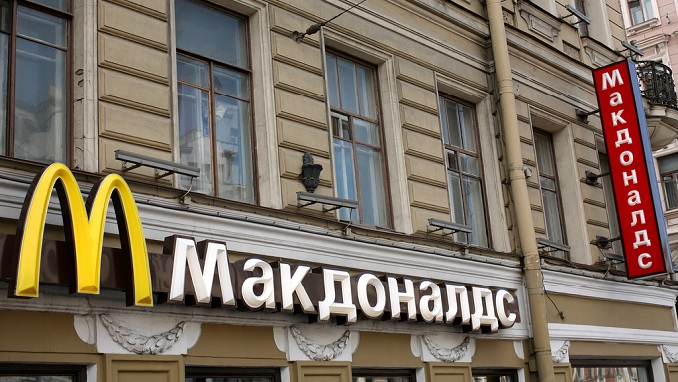mcdonalds: (8, 158, 158, 318)
